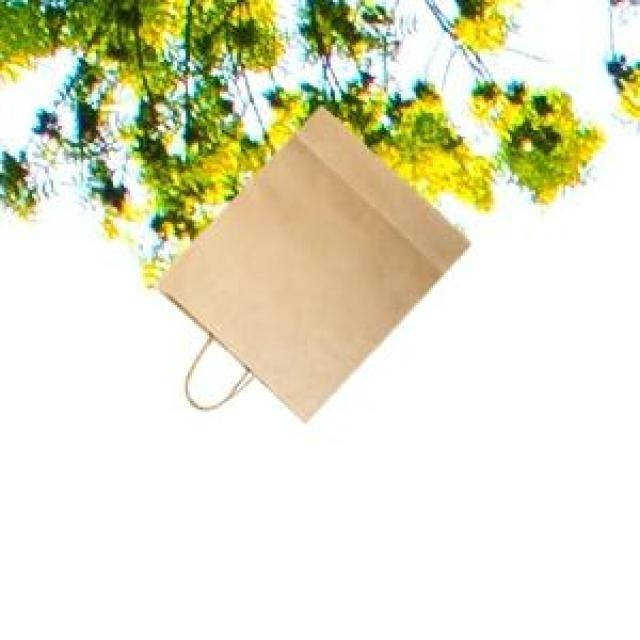paper: (154, 102, 465, 418)
